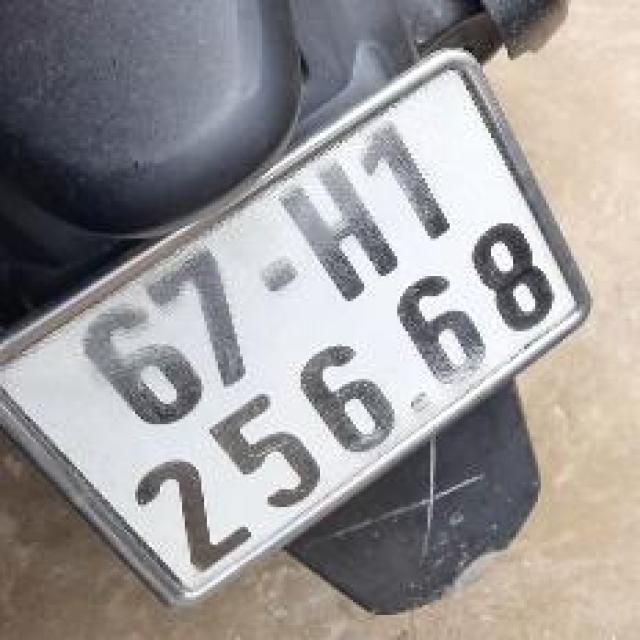1: (344, 104, 469, 258)
2: (121, 446, 264, 592)
5: (198, 384, 339, 522)
6: (73, 290, 221, 443), (277, 332, 414, 471), (379, 262, 503, 403)
7: (137, 244, 282, 402)
8: (454, 208, 570, 341)
H: (262, 149, 414, 314)
